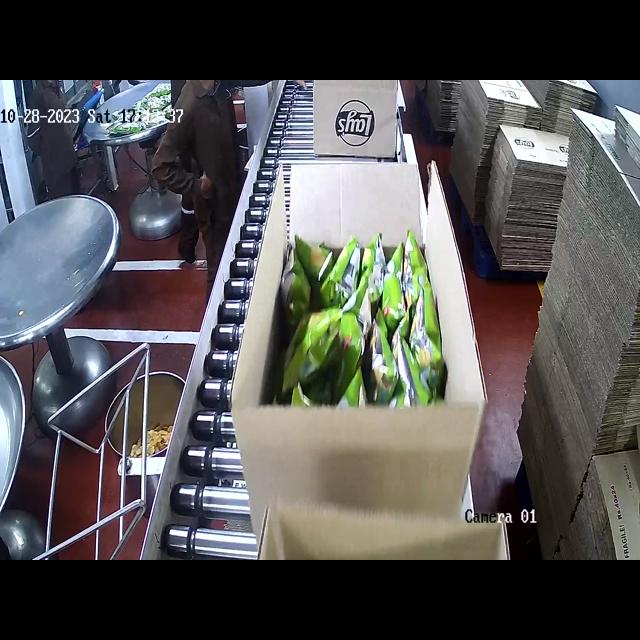yogurt: (276, 230, 445, 408)
